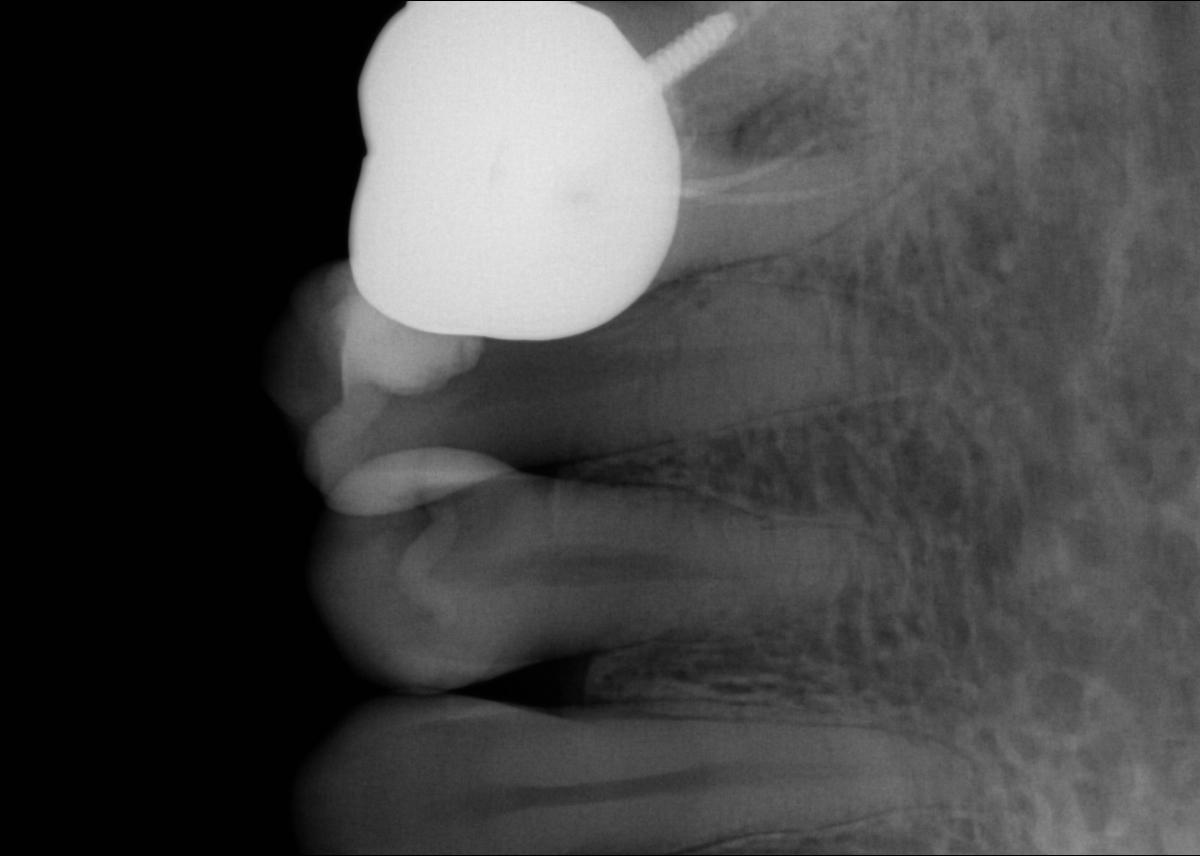Endo-Periodontal Lesion: (721, 75, 858, 163)
